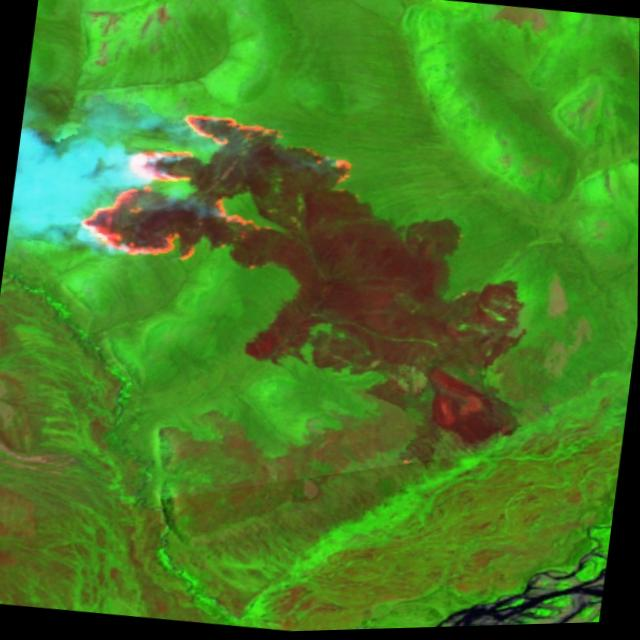fire: (68, 93, 362, 287)
